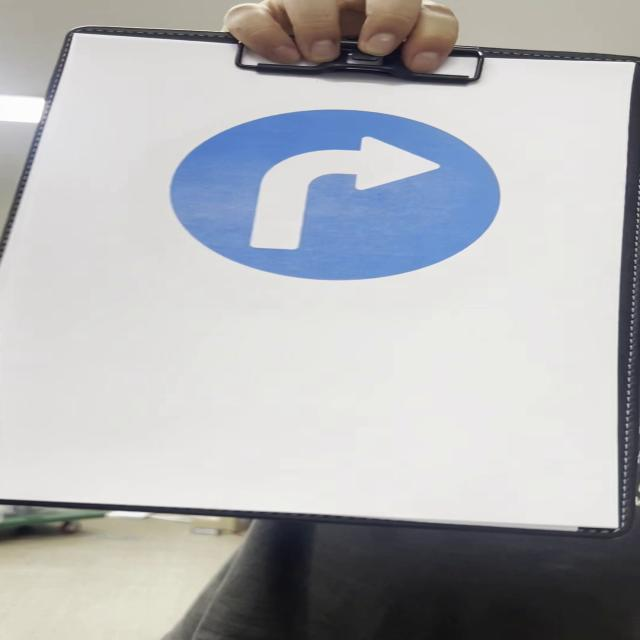right: (167, 113, 504, 280)
